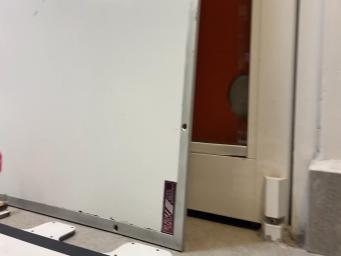street: (0, 223, 106, 256), (0, 223, 106, 256), (0, 223, 106, 256)
